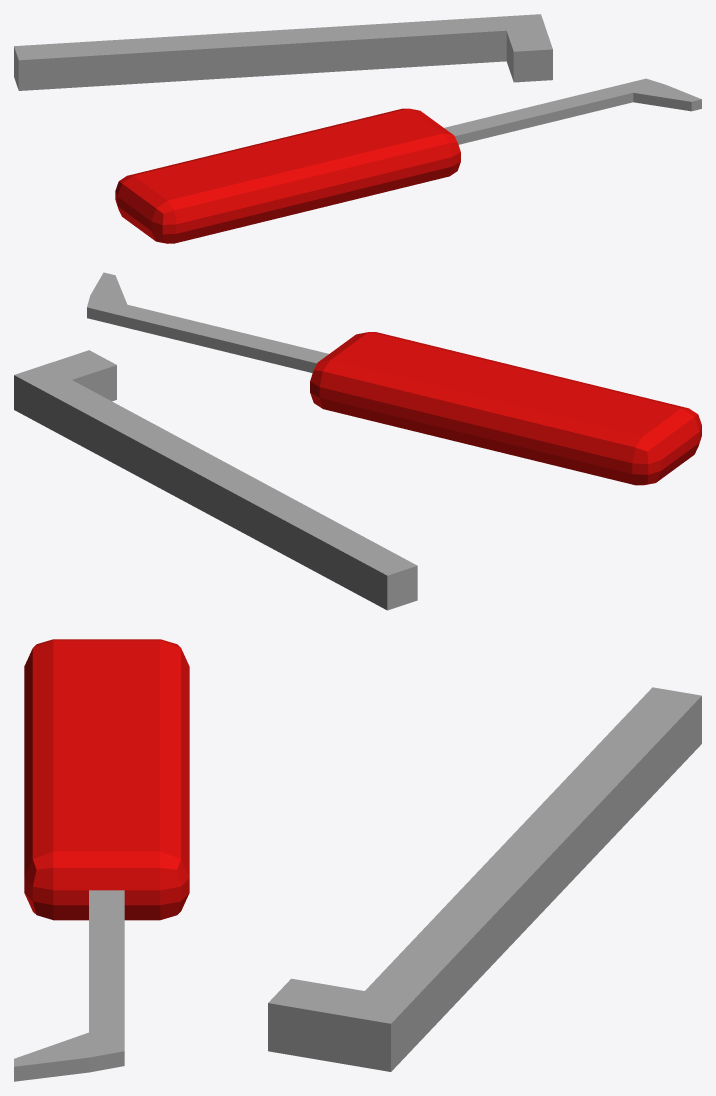
Rendered from lockpick.fbx.
3 views of the same model, one above another, from view 1: azimuth 30°, elevation 25°; view 2: azimuth 150°, elevation 25°; view 3: azimuth 270°, elevation 25° (orthographic). The views are drawn at different scales.
Parts seen in each view (by area): view 1: Lockpick Set; view 2: Lockpick Set; view 3: Lockpick Set.
Boxes of the visible parts, x1,y1,x2,y2 form: Lockpick Set: (14,14,701,243); Lockpick Set: (14,272,701,610); Lockpick Set: (14,639,701,1081).
Bounding box in the file's own units: 66.88 × 47.14 × 5.13.
